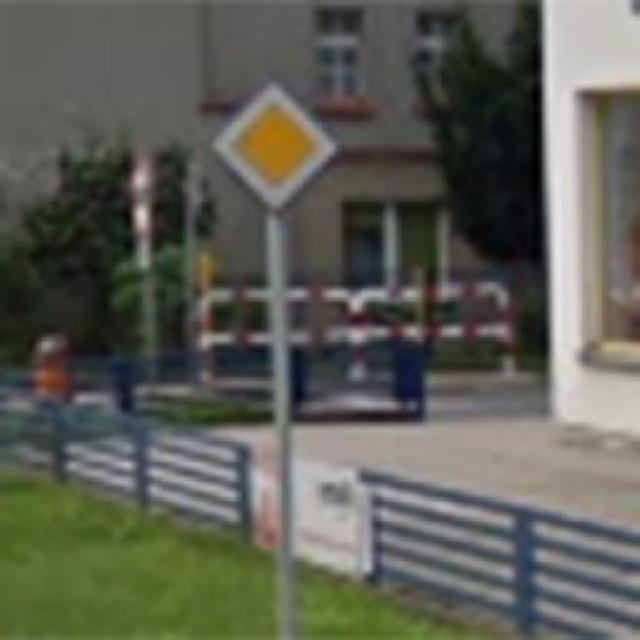Droga z pierwszenstwem: (210, 78, 339, 216)
